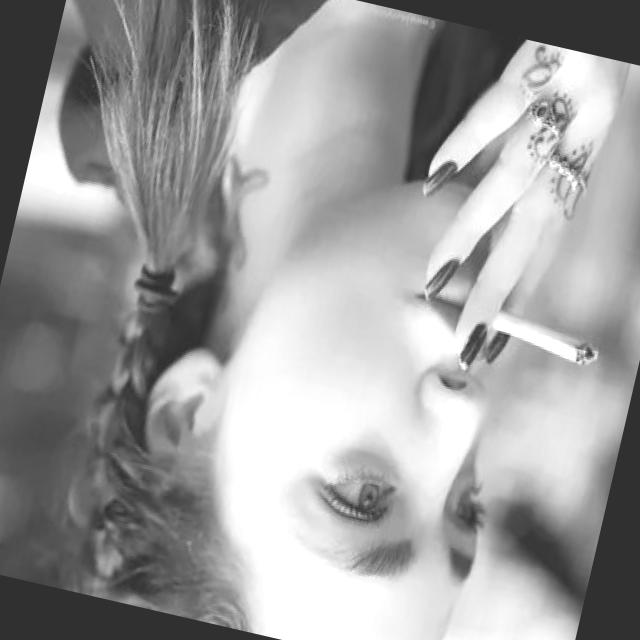smoke: (479, 296, 606, 373)
